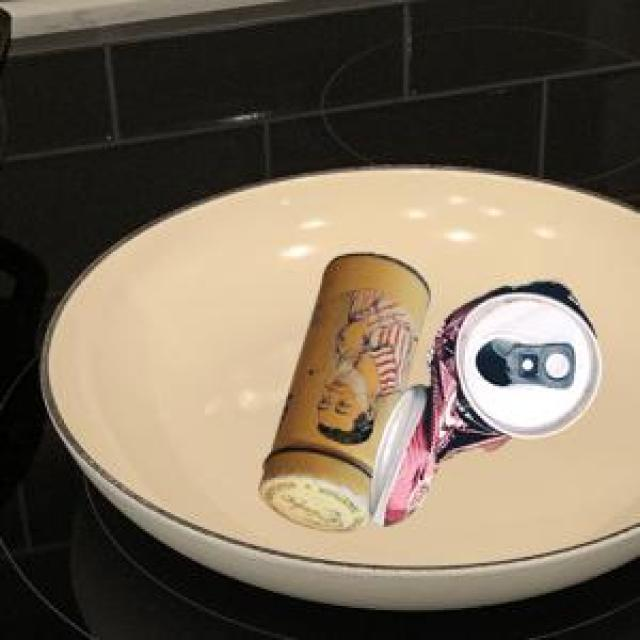logam: (366, 276, 598, 522), (257, 251, 426, 528)
